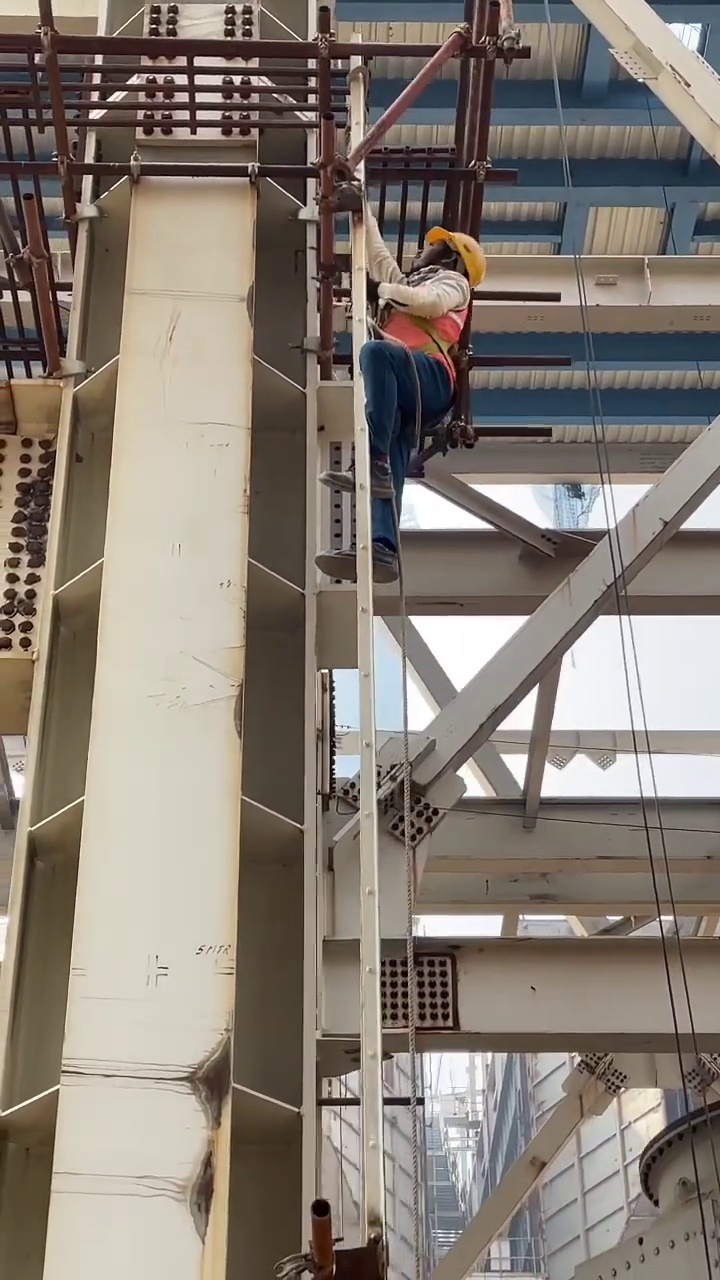Helmet: (422, 222, 487, 275)
Person: (309, 222, 489, 585)
Safety_Harness: (383, 303, 468, 430)
Safety_shoes: (312, 535, 399, 581), (323, 452, 395, 498)
